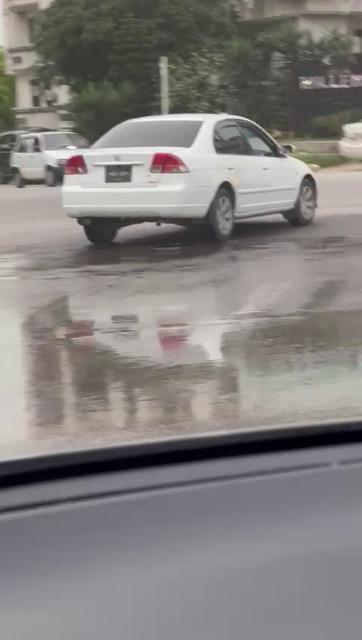plate: (104, 164, 134, 184)
